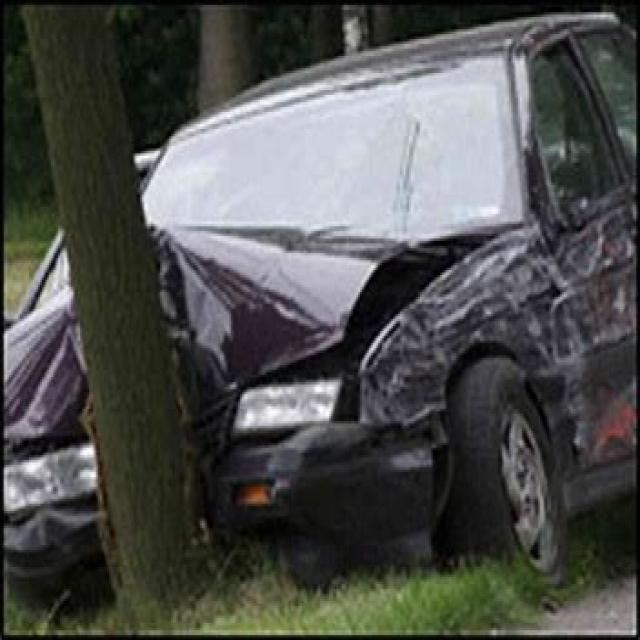Accident: (20, 64, 640, 592)
